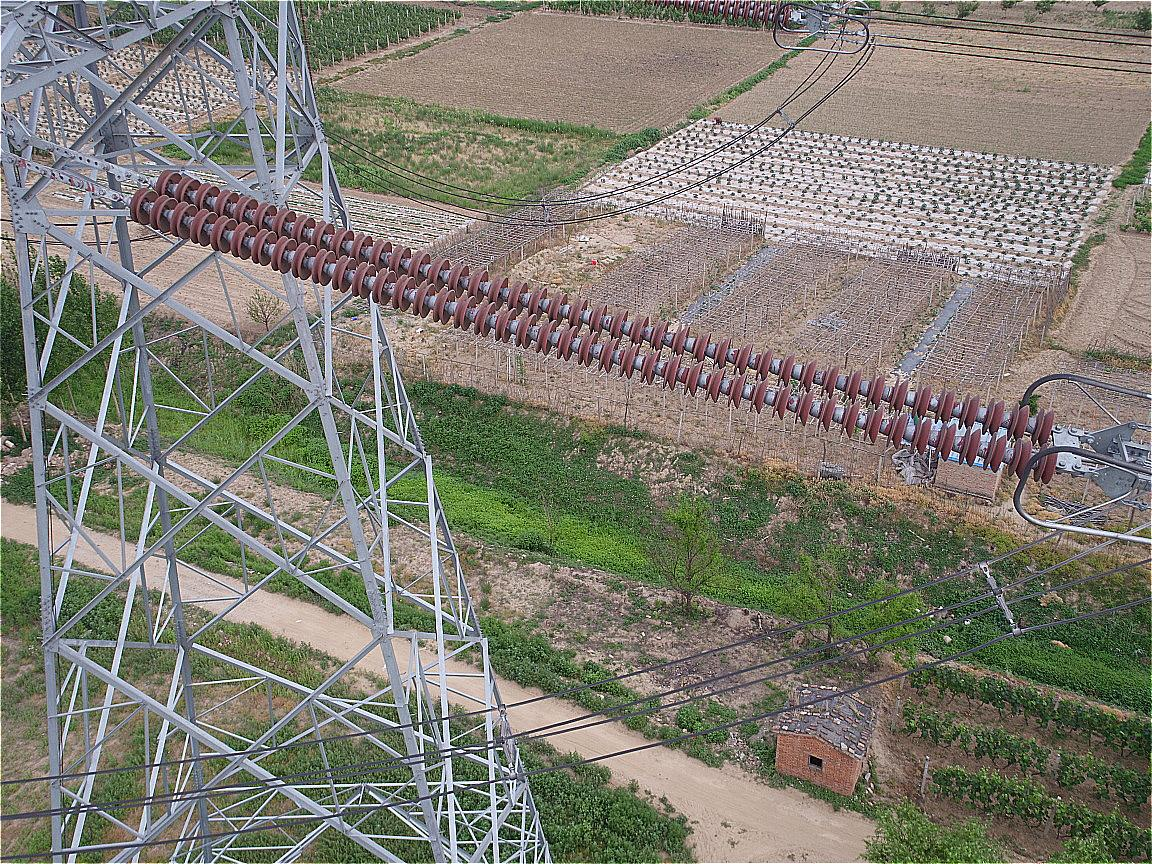insultor2: (130, 169, 1060, 483)
